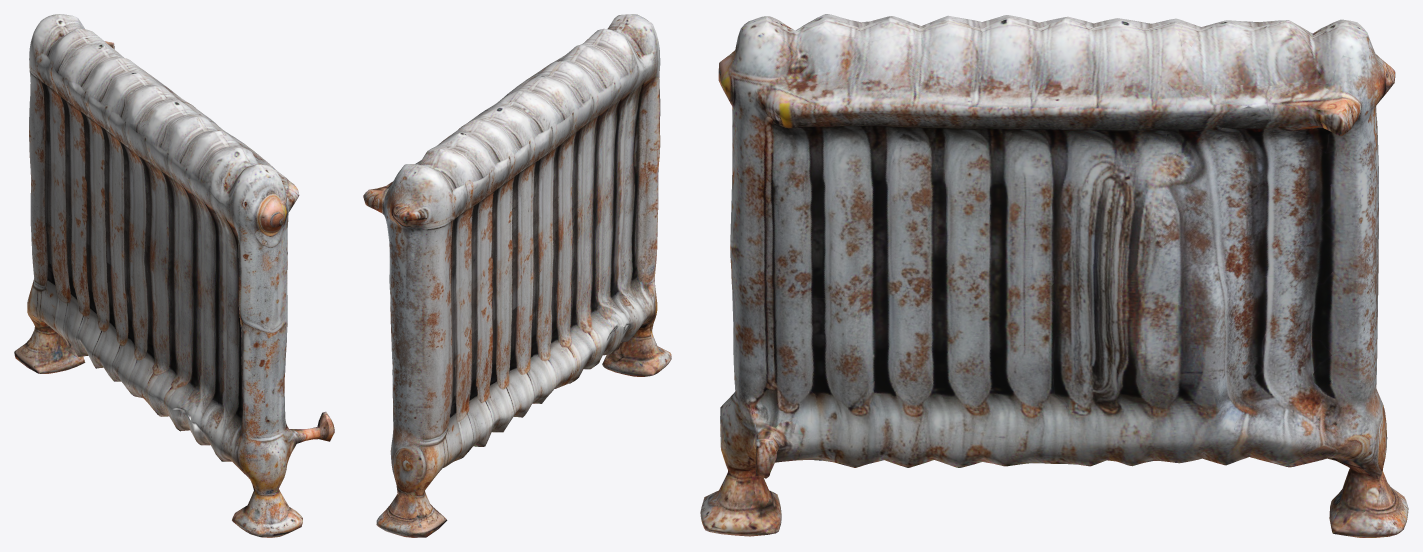
File: radiator.glb
3 views of the same model, side by side, from view 1: azimuth 30°, elevation 25°; view 2: azimuth 150°, elevation 25°; view 3: azimuth 270°, elevation 25° (orthographic). The views are drawn at different scales.
Bounding box in the file's own units: 0.2896 × 0.9538 × 1.2.
Materials: 1 (1 with a texture image).
